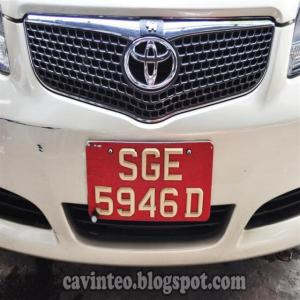Plate: (87, 139, 211, 222)
